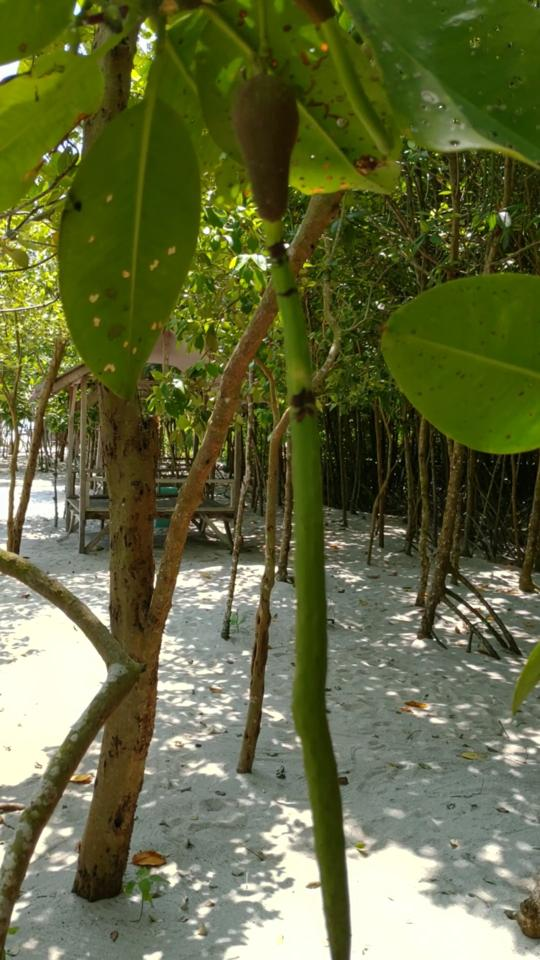mentah: (216, 56, 376, 959)
